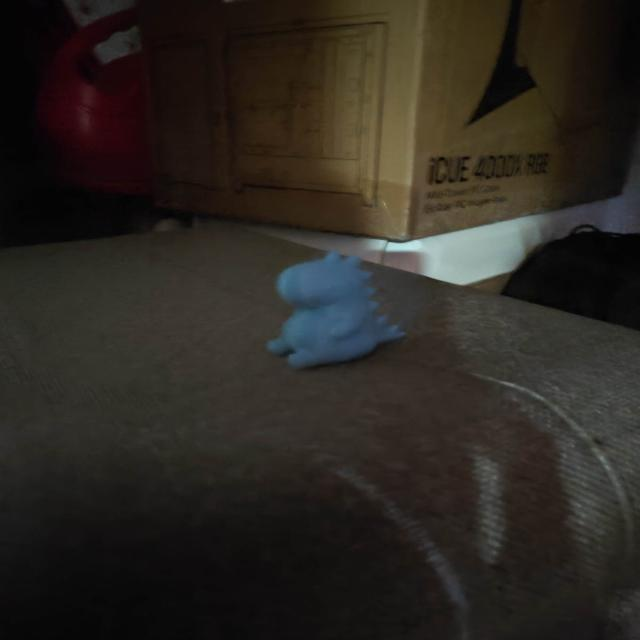DINO: (258, 252, 403, 362)
